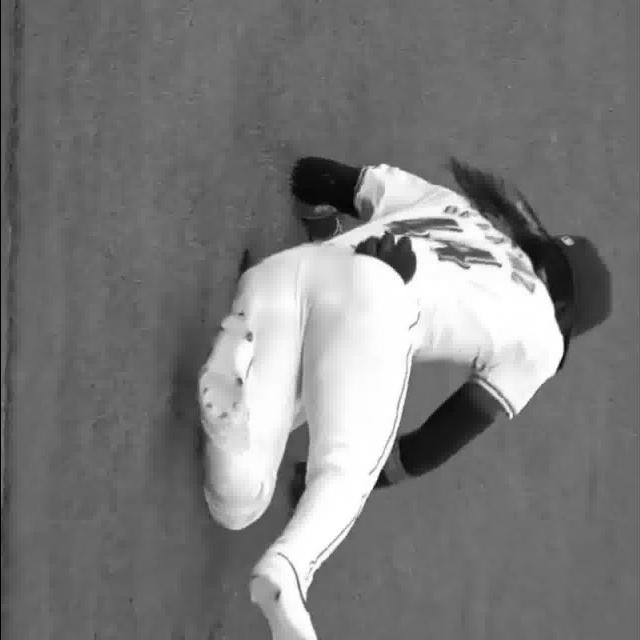shoe: (192, 303, 251, 431), (247, 559, 322, 640)
